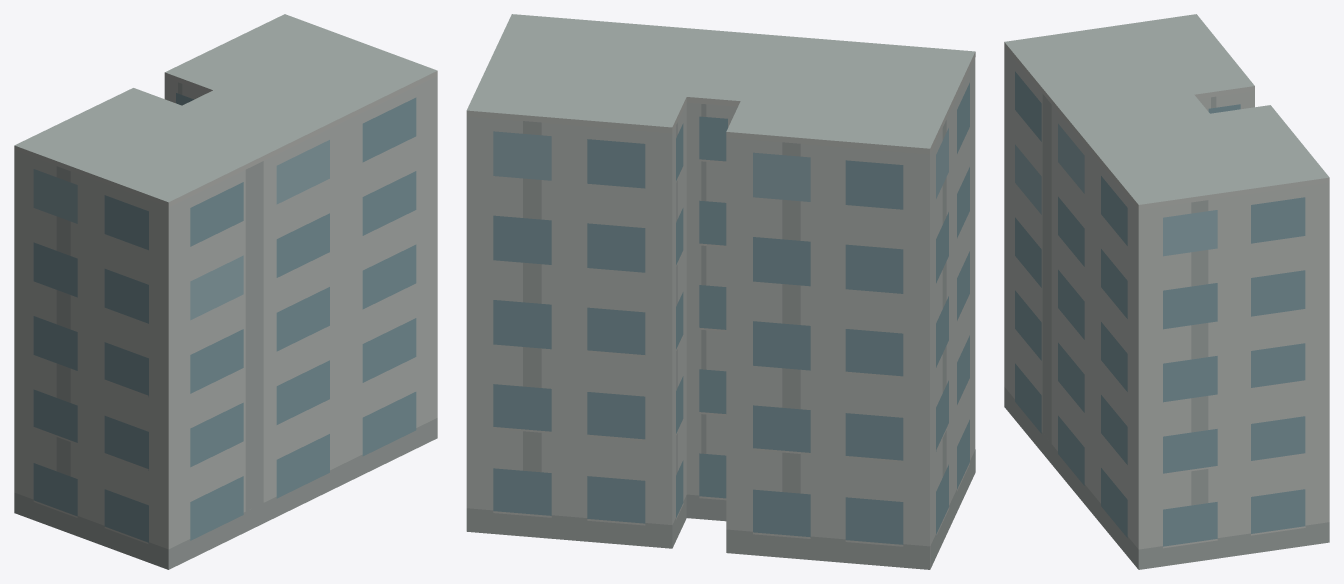
The model's file is survey-upis-32788387.glb.
3 views of the same model, side by side, from view 1: azimuth 30°, elevation 25°; view 2: azimuth 150°, elevation 25°; view 3: azimuth 270°, elevation 25° (orthographic). The views are drawn at different scales.
Parts seen in each view (by area): view 1: survey-upis-32788387.tmp; view 2: survey-upis-32788387.tmp; view 3: survey-upis-32788387.tmp.
Part boxes in pixels (x1,y1,x2,y2): survey-upis-32788387.tmp: (14,14,437,569); survey-upis-32788387.tmp: (466,14,975,569); survey-upis-32788387.tmp: (1004,14,1329,569).
Bounding box in the file's own units: 19.82 × 17.65 × 14.27.
